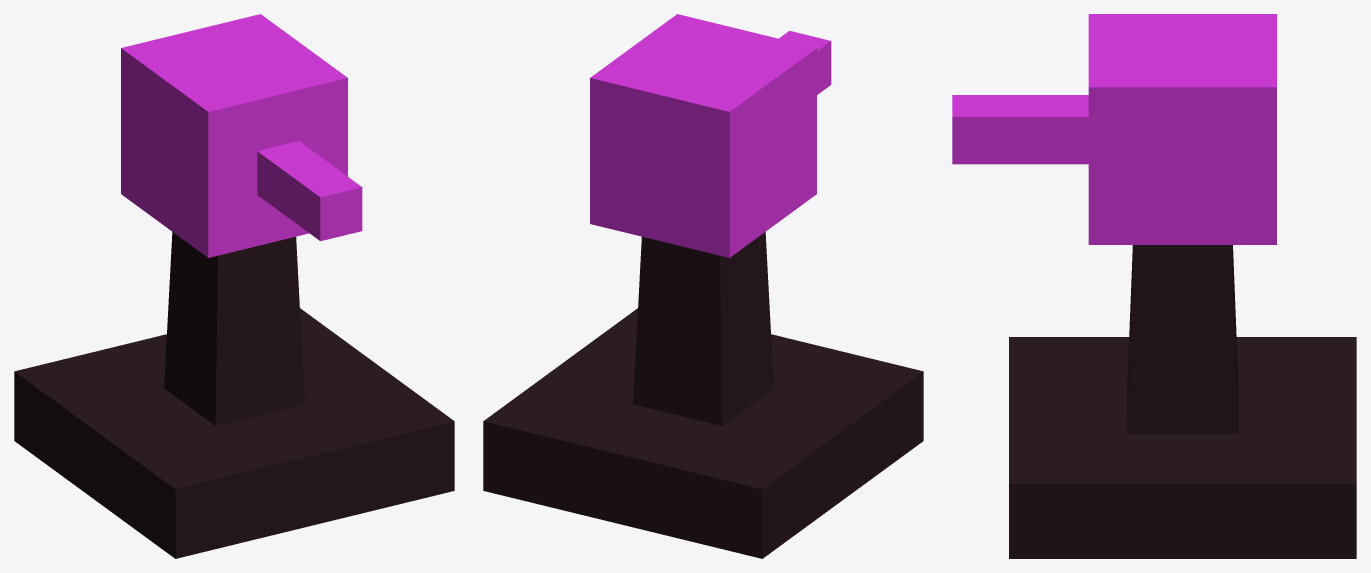
Rendered from basicTower.fbx.
3 views of the same model, side by side, from view 1: azimuth 30°, elevation 25°; view 2: azimuth 150°, elevation 25°; view 3: azimuth 270°, elevation 25° (orthographic). The views are drawn at different scales.
Parts seen in each view (by area): view 1: Cube.002, Cube.001; view 2: Cube.002, Cube.001; view 3: Cube.002, Cube.001.
Part boxes in pixels (left/top/right/bottom): Cube.002: left=14, top=232, right=454, bottom=558; Cube.001: left=121, top=14, right=362, bottom=257; Cube.002: left=483, top=232, right=923, bottom=558; Cube.001: left=590, top=14, right=831, bottom=257; Cube.002: left=1009, top=245, right=1356, bottom=558; Cube.001: left=952, top=14, right=1276, bottom=244.
Bounding box in the file's own units: 200 × 276 × 233.
